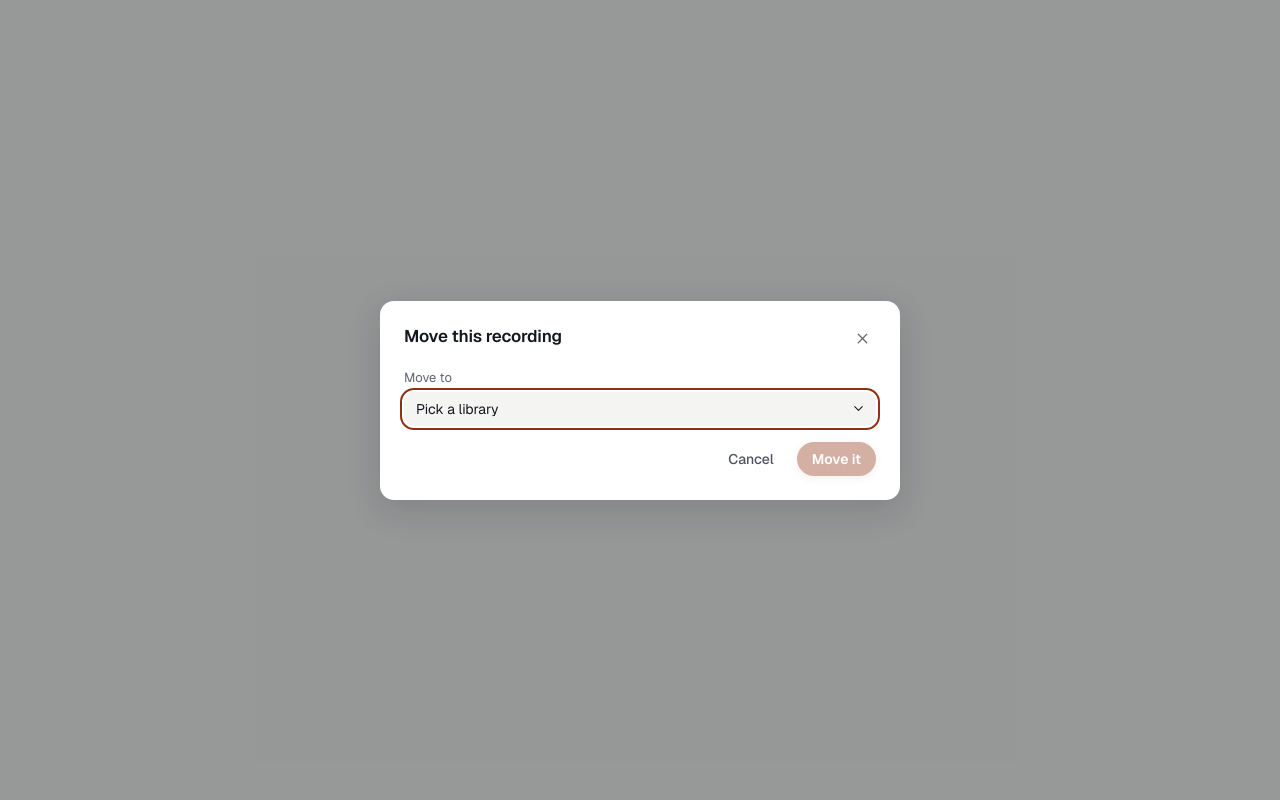
where it can go › offers the libraries you can add to, and not the one it is already in
This screenshot has width=1280, height=800.
What coordinates should you click on to do the following:
click the dropdown named "Move to"
I would click on:
 (457, 408)
Its box is [404, 392, 876, 426].
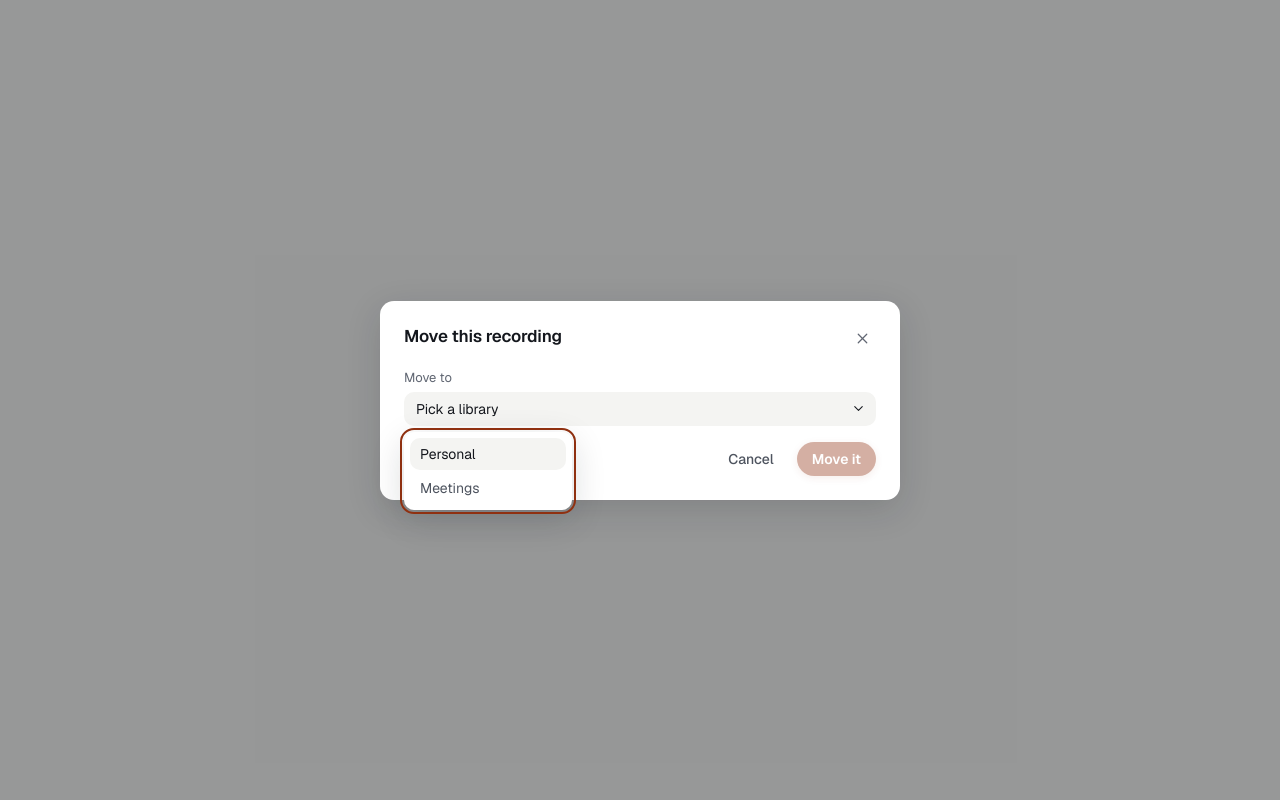
Check: the option "Personal" is shown, box [410, 438, 566, 470]
Check: the option "Meetings" is shown, box [420, 479, 480, 497]
